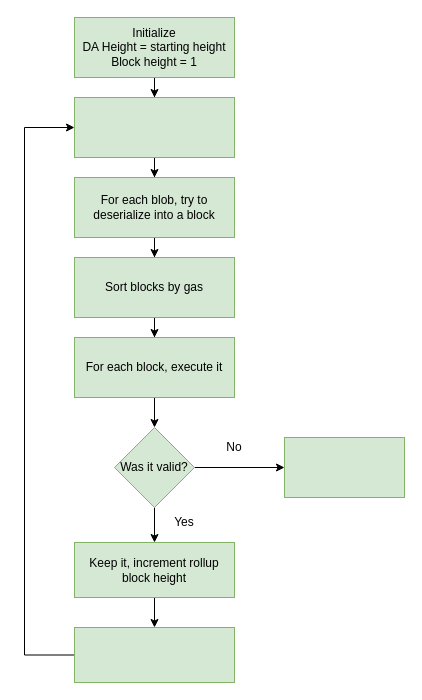
This 422x700 diagram has some shape labels left out. Each missing label, with the centre of its shape:
"GetBlobs(DAHeight, namespace)" belongs at (154,127).
"Increment DA height" belongs at (154,654).
"Revert it, continue" belongs at (344,467).
